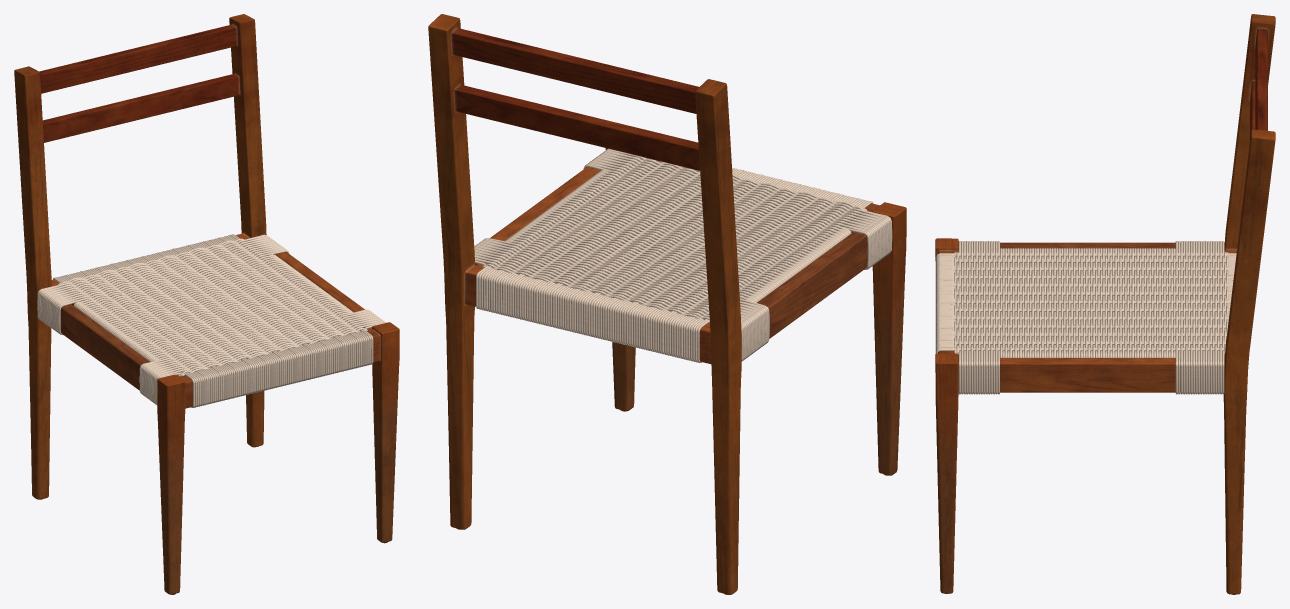
The picture shows the model from 3 angles, left to right: view 1: azimuth 30°, elevation 25°; view 2: azimuth 150°, elevation 25°; view 3: azimuth 270°, elevation 25°; orthographic projection. The views are drawn at different scales.
Visible parts, largest first — view 1: RootNode; view 2: RootNode; view 3: RootNode.
Part boxes in pixels (x1,y1,x2,y2): RootNode: (14,14,399,594); RootNode: (428,14,906,594); RootNode: (935,14,1275,594).
Bounding box in the file's own units: 0.4953 × 0.8509 × 0.569.
1 material, 1 textured.
